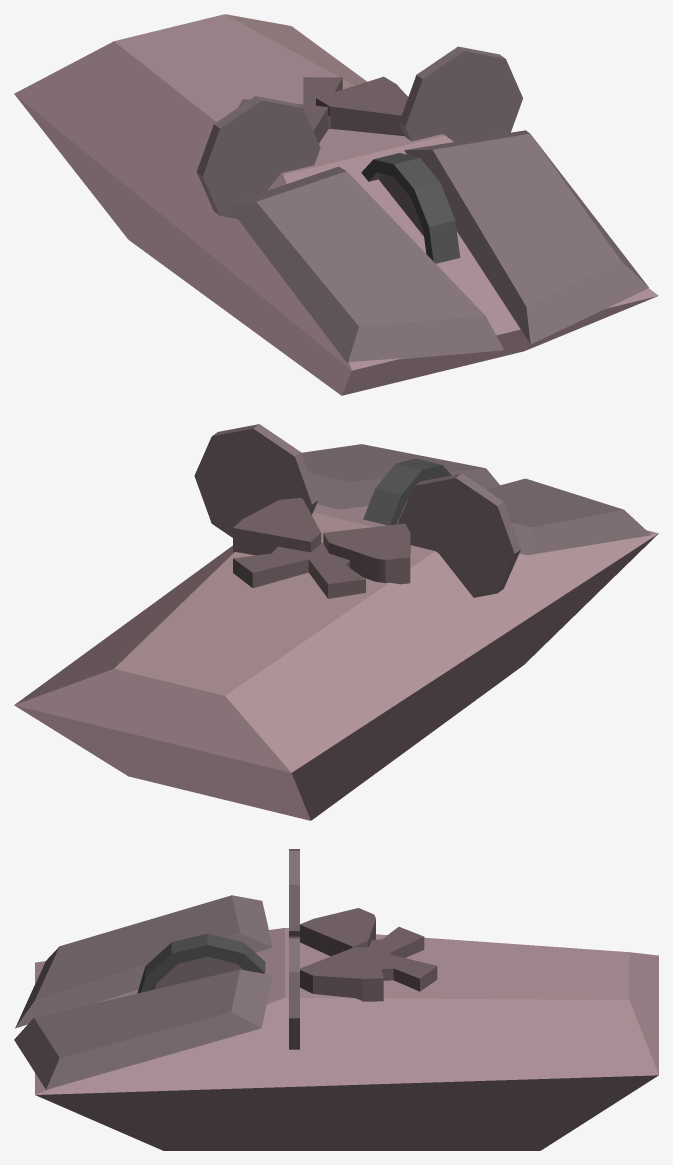
Rendered from SM_MouseMiny.fbx.
3 views of the same model, one above another, from view 1: azimuth 30°, elevation 25°; view 2: azimuth 150°, elevation 25°; view 3: azimuth 270°, elevation 25° (orthographic). The views are drawn at different scales.
Parts seen in each view (by area): view 1: pCube1; view 2: pCube1; view 3: pCube1.
Part boxes in pixels (<box>): pCube1: <box>14,14,658,395</box>; pCube1: <box>14,424,658,820</box>; pCube1: <box>14,849,658,1150</box>.
Bounding box in the file's own units: 3.53 × 2.58 × 6.96.
